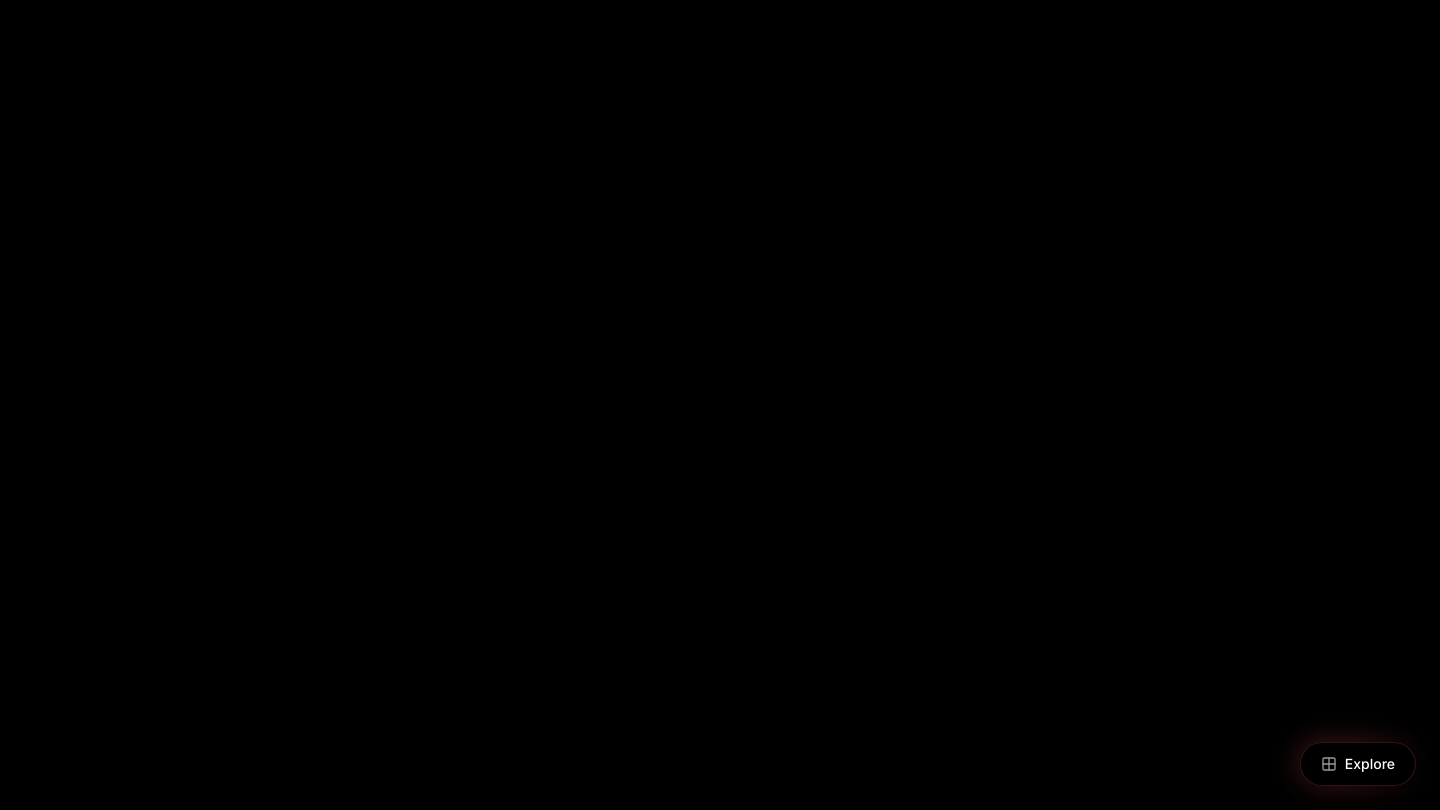
Scenario: ExploreFeatures — Interview Prep flag gate › when VITE_FEATURE_INTERVIEW_PREP is off › renders the Interview Prep tile disabled with a ComingSoonBadge and does not navigate on click
Later steps or results of the test are not shown.
Click the button with aria-label "Explore Features".
click(1358, 764)  # box [1300,742,1416,786]
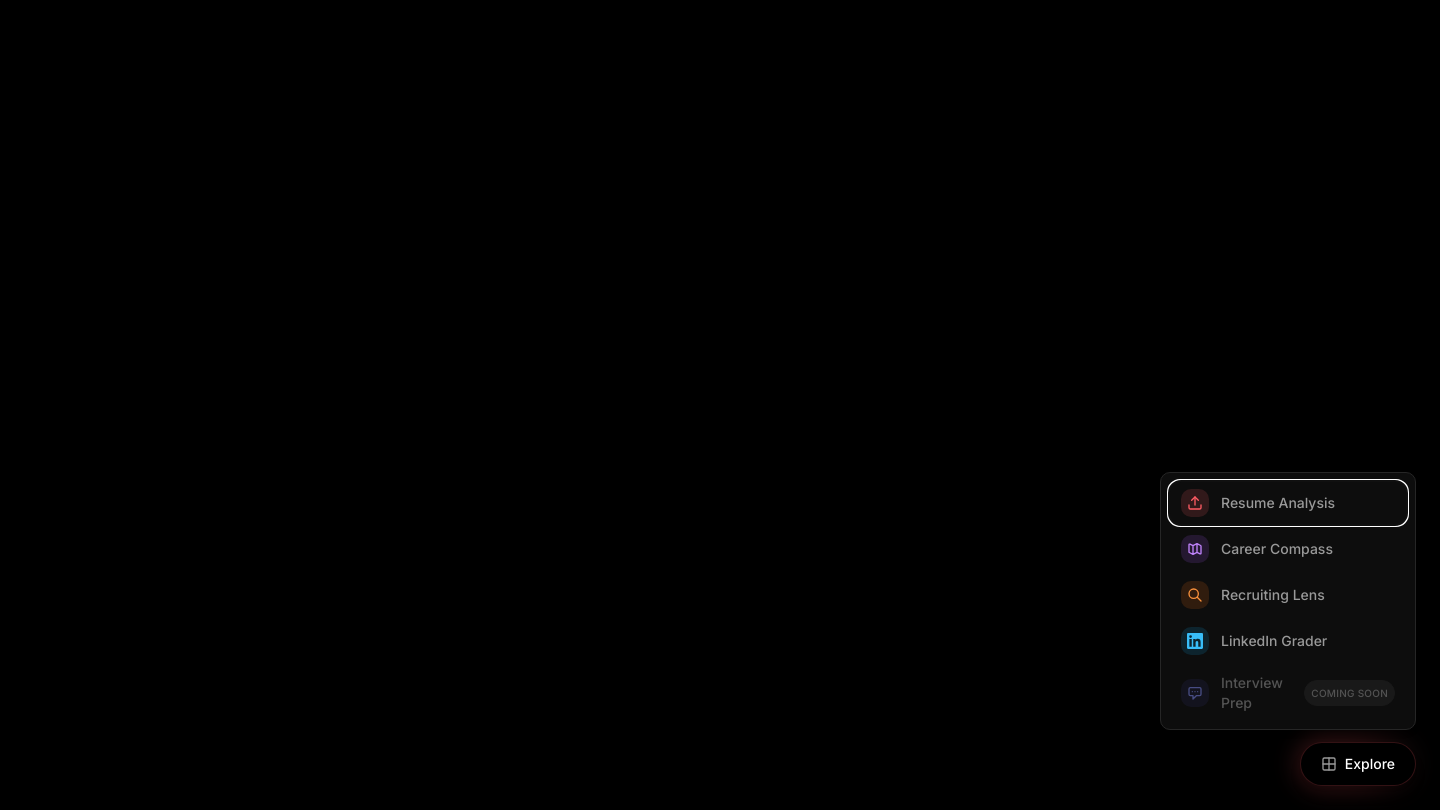
expect the button "Interview Prep Coming Soon" is disabled: met, box [1169,665,1407,721]
expect the text "Coming Soon" is shown: met, box [1304,680,1395,706]
